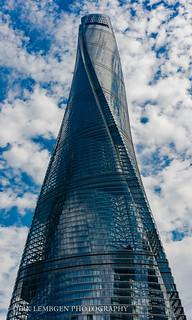building: (6, 13, 188, 319)
